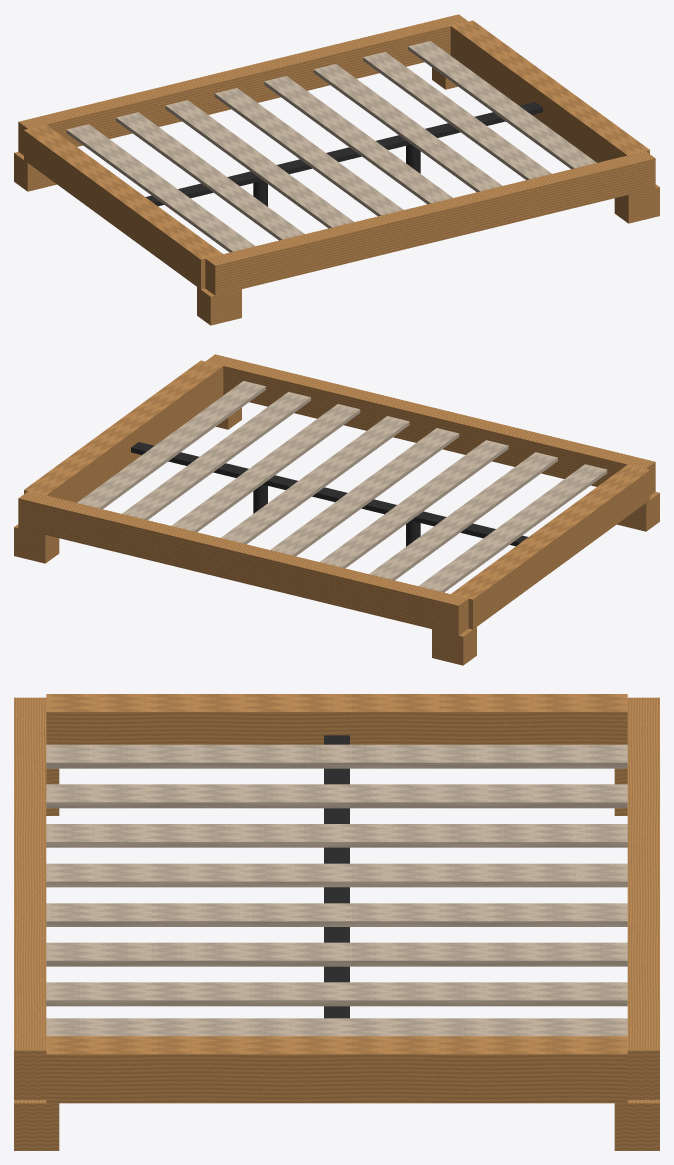
3 renders of one model, top to bottom at view 1: azimuth 30°, elevation 25°; view 2: azimuth 150°, elevation 25°; view 3: azimuth 270°, elevation 25°, orthographic. The views are drawn at different scales.
Parts seen in each view (by area): view 1: 1 front_rail, 2 back_rail, 3 left_rail, 4 right_rail, 13 slat_2, 15 slat_4, 17 slat_6, 12 slat_1, 19 slat_8, 14 slat_3, 18 slat_7, 16 slat_5 (+4 smaller); view 2: 2 back_rail, 1 front_rail, 3 left_rail, 4 right_rail, 13 slat_2, 15 slat_4, 17 slat_6, 12 slat_1, 19 slat_8, 14 slat_3, 18 slat_7, 16 slat_5 (+4 smaller); view 3: 4 right_rail, 3 left_rail, 12 slat_1, 13 slat_2, 15 slat_4, 17 slat_6, 18 slat_7, 14 slat_3, 16 slat_5, 1 front_rail, 2 back_rail, 19 slat_8 (+3 smaller).
Boxes of the visible parts, left/top/right/bottom form: 1 front_rail: left=205, top=151, right=655, bottom=295; 2 back_rail: left=18, top=14, right=468, bottom=155; 3 left_rail: left=24, top=124, right=222, bottom=289; 4 right_rail: left=450, top=20, right=649, bottom=162; 13 slat_2: left=116, top=112, right=304, bottom=240; 15 slat_4: left=214, top=88, right=403, bottom=216; 17 slat_6: left=313, top=64, right=502, bottom=191; 12 slat_1: left=66, top=124, right=255, bottom=252; 19 slat_8: left=408, top=41, right=596, bottom=169; 14 slat_3: left=165, top=100, right=353, bottom=228; 18 slat_7: left=363, top=52, right=551, bottom=180; 16 slat_5: left=264, top=76, right=452, bottom=204; 2 back_rail: left=18, top=491, right=468, bottom=635; 1 front_rail: left=205, top=354, right=655, bottom=495; 3 left_rail: left=451, top=464, right=649, bottom=629; 4 right_rail: left=24, top=360, right=223, bottom=502; 13 slat_2: left=369, top=452, right=557, bottom=580; 15 slat_4: left=270, top=428, right=459, bottom=556; 17 slat_6: left=171, top=404, right=360, bottom=531; 12 slat_1: left=418, top=464, right=607, bottom=592; 19 slat_8: left=77, top=381, right=265, bottom=509; 14 slat_3: left=320, top=440, right=508, bottom=568; 18 slat_7: left=122, top=392, right=310, bottom=520; 16 slat_5: left=221, top=416, right=409, bottom=544; 4 right_rail: left=46, top=1036, right=627, bottom=1103; 3 left_rail: left=46, top=694, right=627, bottom=744; 12 slat_1: left=46, top=744, right=627, bottom=768; 13 slat_2: left=46, top=784, right=627, bottom=808; 15 slat_4: left=46, top=863, right=627, bottom=887; 17 slat_6: left=46, top=942, right=627, bottom=966; 18 slat_7: left=46, top=982, right=627, bottom=1006; 14 slat_3: left=46, top=824, right=627, bottom=847; 16 slat_5: left=46, top=903, right=627, bottom=926; 1 front_rail: left=14, top=697, right=46, bottom=1099; 2 back_rail: left=627, top=697, right=659, bottom=1099; 19 slat_8: left=46, top=1018, right=627, bottom=1036.
Bounding box in the file's own units: 2.07 × 0.2591 × 1.57.
Materials: 3 (2 with a texture image).
